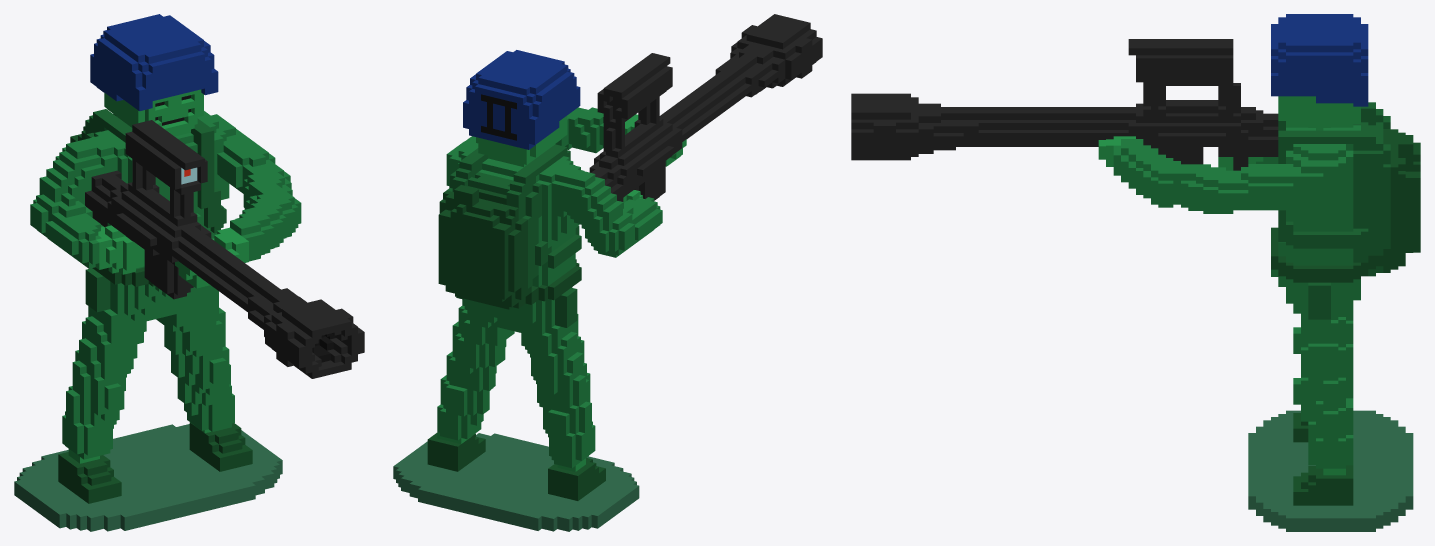
The model's file is snajper_soldier_LVL2_3.0.obj.
3 views of the same model, side by side, from view 1: azimuth 30°, elevation 25°; view 2: azimuth 150°, elevation 25°; view 3: azimuth 270°, elevation 25° (orthographic). The views are drawn at different scales.
Size of the model in its own units: 3.5 by 6.6 by 7.6.
1 material, 1 textured.
